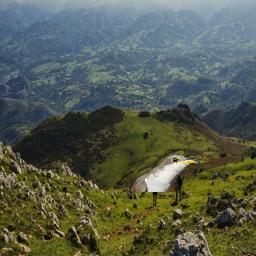Cuckoo: (129, 154, 200, 192)
